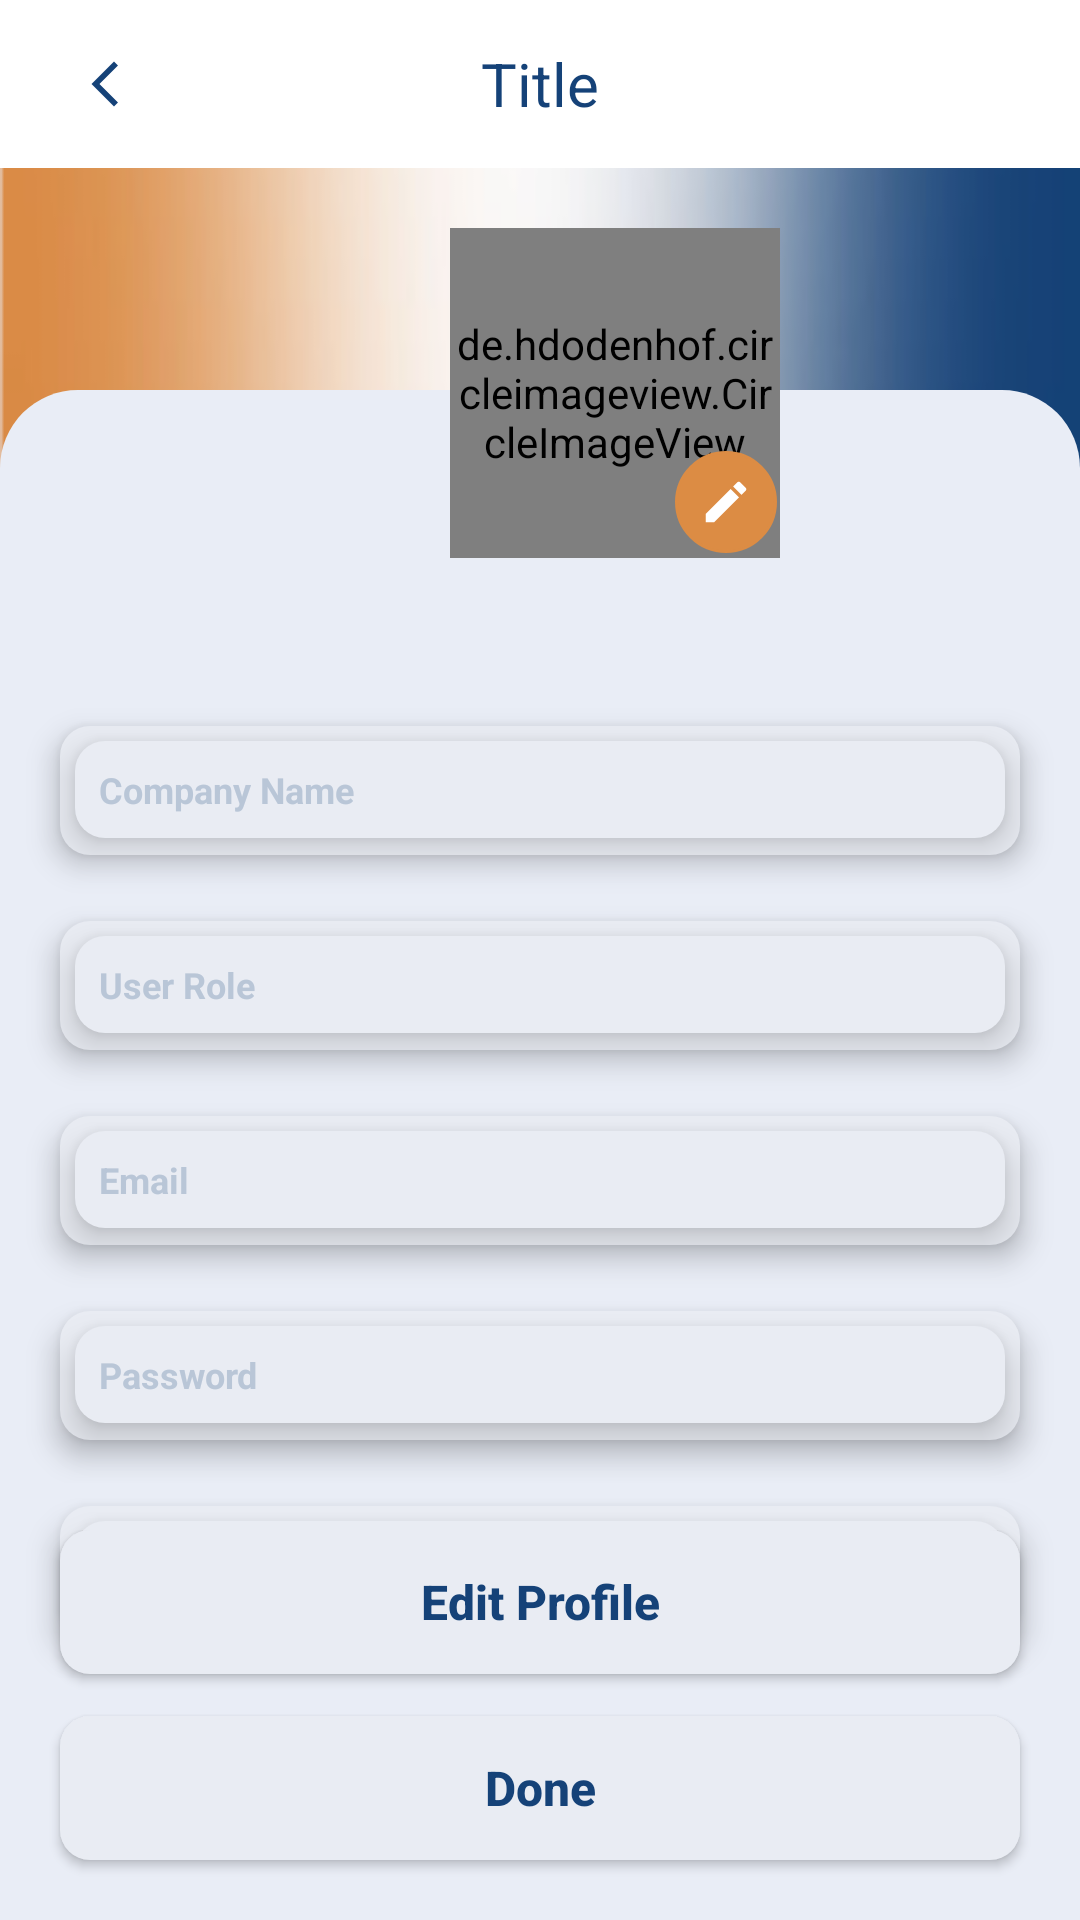

Icons on this 1080px x 1920px Android screen, each with its box as (x1, y1, x2, y2):
Back Button: (91, 61, 118, 107)
edit: (675, 451, 777, 553)
